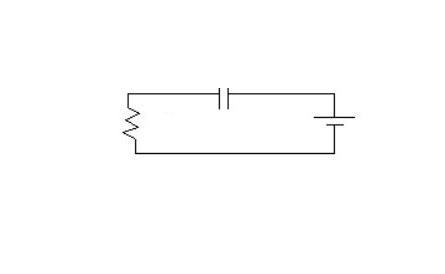resistor: (115, 92, 151, 148)
